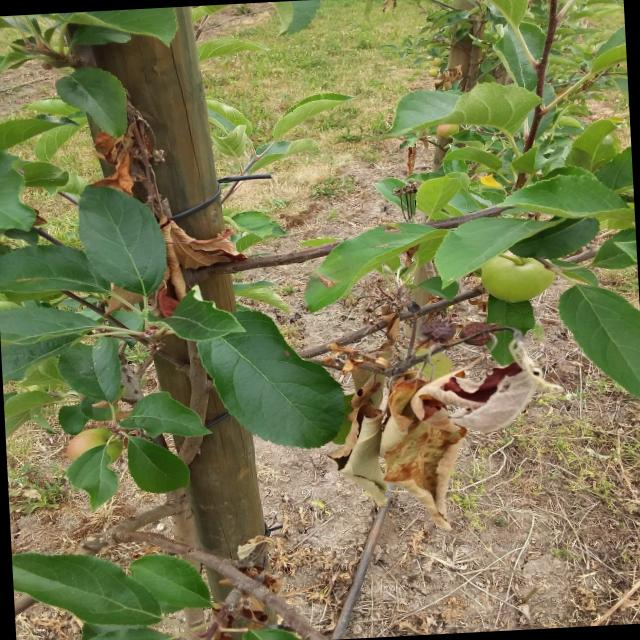-FireBlight-: (344, 334, 534, 512), (156, 200, 240, 290), (99, 124, 155, 193)
